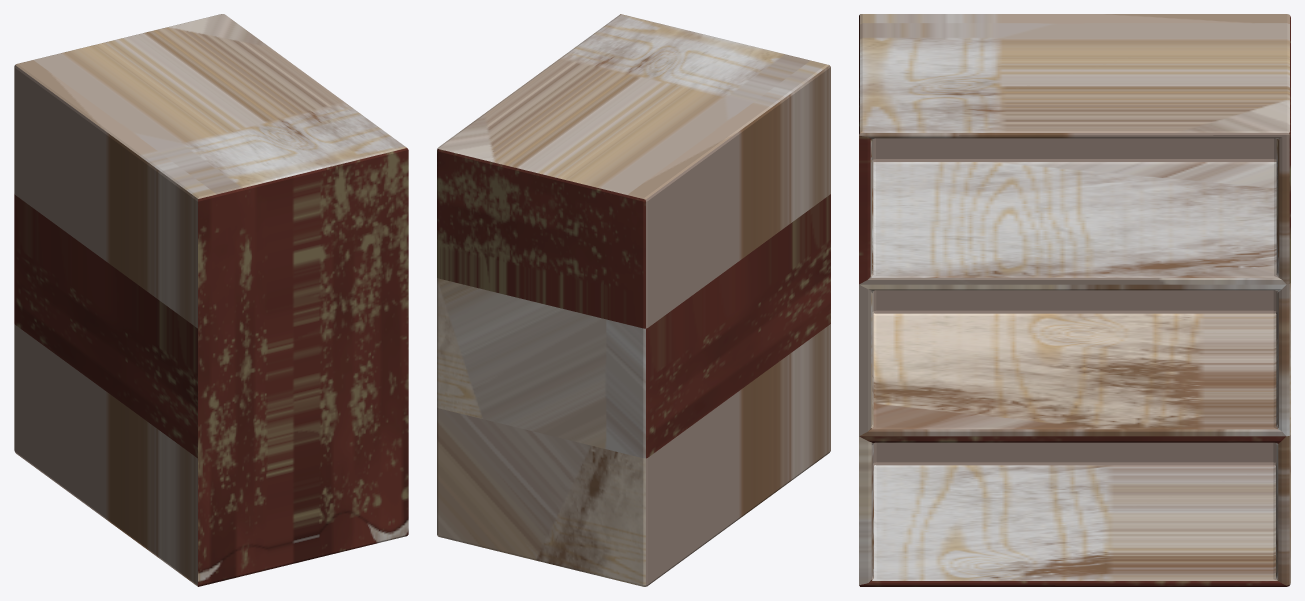
File: _tag_res_001.fbx
The picture shows the model from 3 angles, left to right: view 1: azimuth 30°, elevation 25°; view 2: azimuth 150°, elevation 25°; view 3: azimuth 270°, elevation 25°; orthographic projection. The views are drawn at different scales.
Visible parts, largest first — view 1: étagères.001; view 2: étagères.001; view 3: étagères.001.
Part boxes in pixels (x1,y1,x2,y2): étagères.001: [14, 14, 408, 586]; étagères.001: [437, 14, 830, 586]; étagères.001: [859, 14, 1290, 586].
Bounding box in the file's own units: 46.93 × 82.94 × 71.3.
